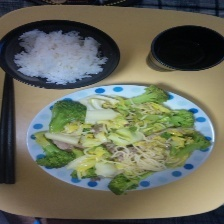rice: (11, 27, 109, 87)
